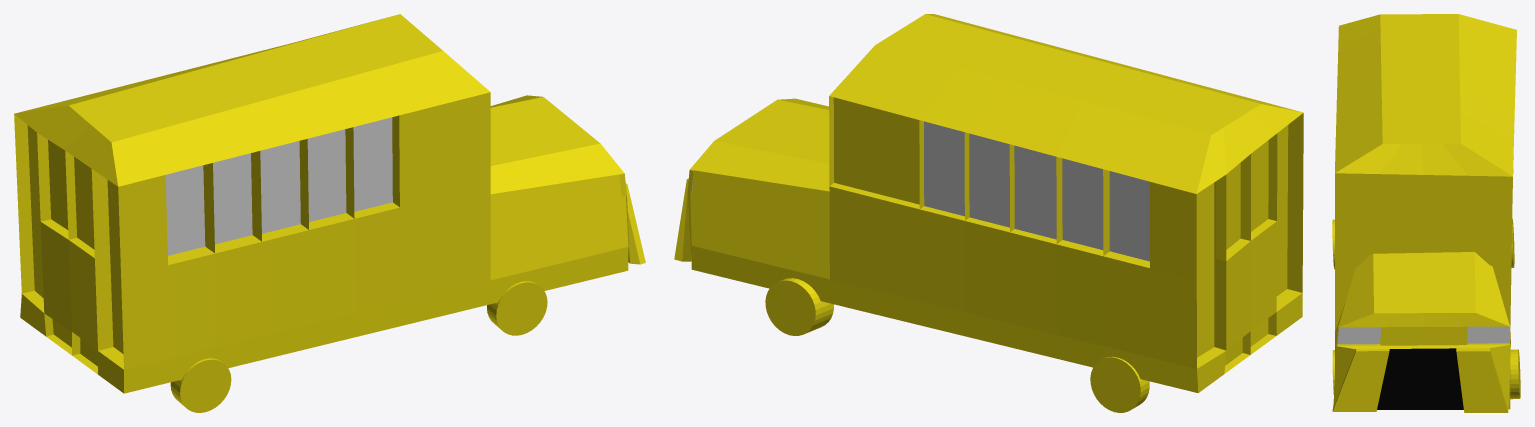
3 views of the same model, side by side, from view 1: azimuth 30°, elevation 25°; view 2: azimuth 150°, elevation 25°; view 3: azimuth 270°, elevation 25° (orthographic). The views are drawn at different scales.
Visible parts, largest first — view 1: CAR, WHEEL 1, WHEEL 2; view 2: CAR, WHEEL 4, WHEEL 3; view 3: CAR, WHEEL 4.
Part boxes in pixels (x1,y1,x2,y2): CAR: (14, 14, 645, 393); WHEEL 1: (170, 358, 231, 412); WHEEL 2: (487, 281, 547, 335); CAR: (674, 14, 1303, 392); WHEEL 4: (765, 278, 833, 335); WHEEL 3: (1090, 356, 1149, 412); CAR: (1332, 14, 1516, 412); WHEEL 4: (1510, 349, 1520, 399).
Size of the model in its own units: 588 by 295 by 215.
